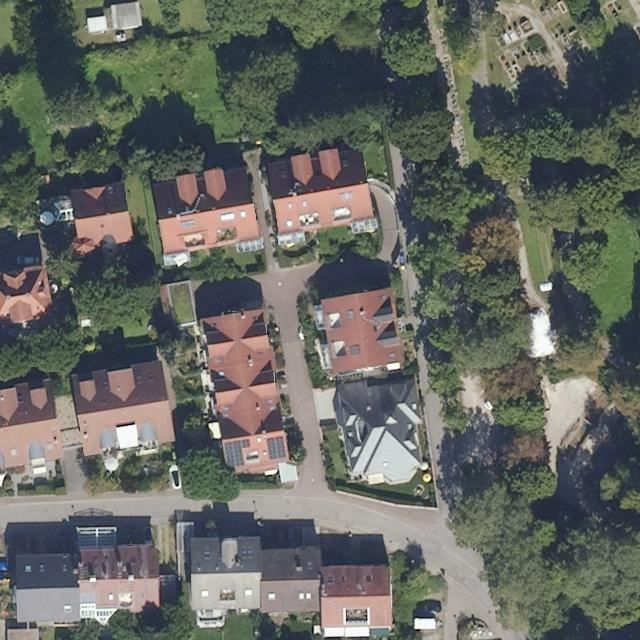PV: (224, 439, 251, 467), (266, 436, 286, 460)
